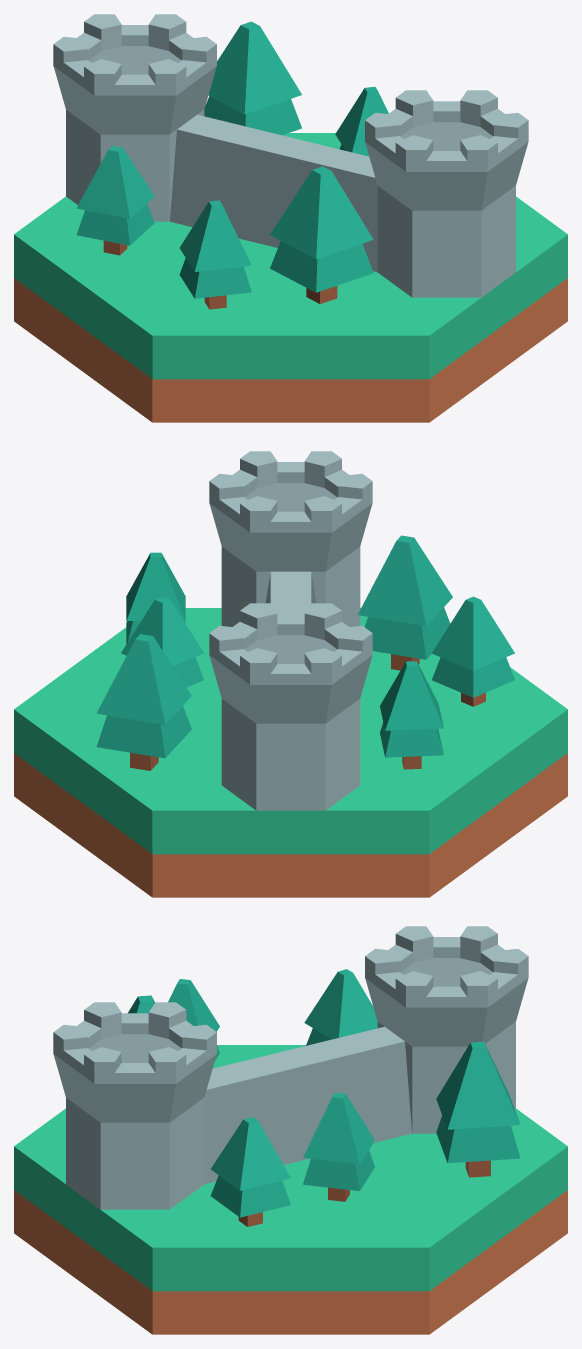
The model's file is Building Wall.glb.
3 renders of one model, top to bottom at view 1: azimuth 30°, elevation 25°; view 2: azimuth 150°, elevation 25°; view 3: azimuth 270°, elevation 25°, orthographic.
Visible parts, largest first — view 1: building_wall, tower.001, tower, wall, tree.004, tree.003, tree, tree.005, tree.001; view 2: building_wall, tower, tower.001, tree.003, tree.004, tree.005, tree, tree.001, tree.002, wall; view 3: building_wall, tower.001, tower, wall, tree.003, tree.002, tree.001, tree, tree.005.
Part boxes in pixels (box(x1,y1,x2,y2)): building_wall: box(14, 133, 567, 422); tower.001: box(365, 90, 528, 297); tower: box(53, 14, 216, 221); wall: box(170, 114, 377, 272); tree.004: box(270, 166, 373, 303); tree.003: box(204, 21, 301, 135); tree: box(76, 145, 154, 255); tree.005: box(179, 200, 251, 309); tree.001: box(335, 86, 388, 156); building_wall: box(14, 608, 567, 897); tower: box(209, 603, 372, 810); tower.001: box(209, 451, 372, 626); tree.003: box(96, 634, 191, 770); tree.004: box(357, 535, 452, 670); tree.005: box(431, 596, 514, 706); tree: box(380, 661, 443, 769); tree.001: box(121, 596, 204, 687); tree.002: box(126, 552, 185, 643); wall: box(265, 571, 316, 614); building_wall: box(14, 1045, 567, 1334); tower.001: box(53, 1002, 216, 1209); tower: box(365, 926, 528, 1133); wall: box(204, 1026, 411, 1184); tree.003: box(436, 1041, 520, 1177); tree.002: box(210, 1117, 290, 1226); tree.001: box(303, 1092, 374, 1201); tree: box(304, 969, 377, 1045); tree.005: box(168, 979, 219, 1060).
Size of the model in its own units: 1 by 0.55 by 1.15.
